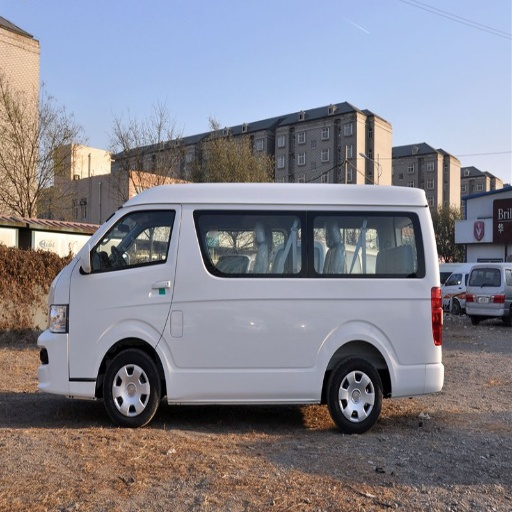back_left_door: (261, 280, 312, 386)
back_right_door: (174, 207, 265, 323)
trunk: (302, 282, 441, 398), (48, 303, 126, 383)
